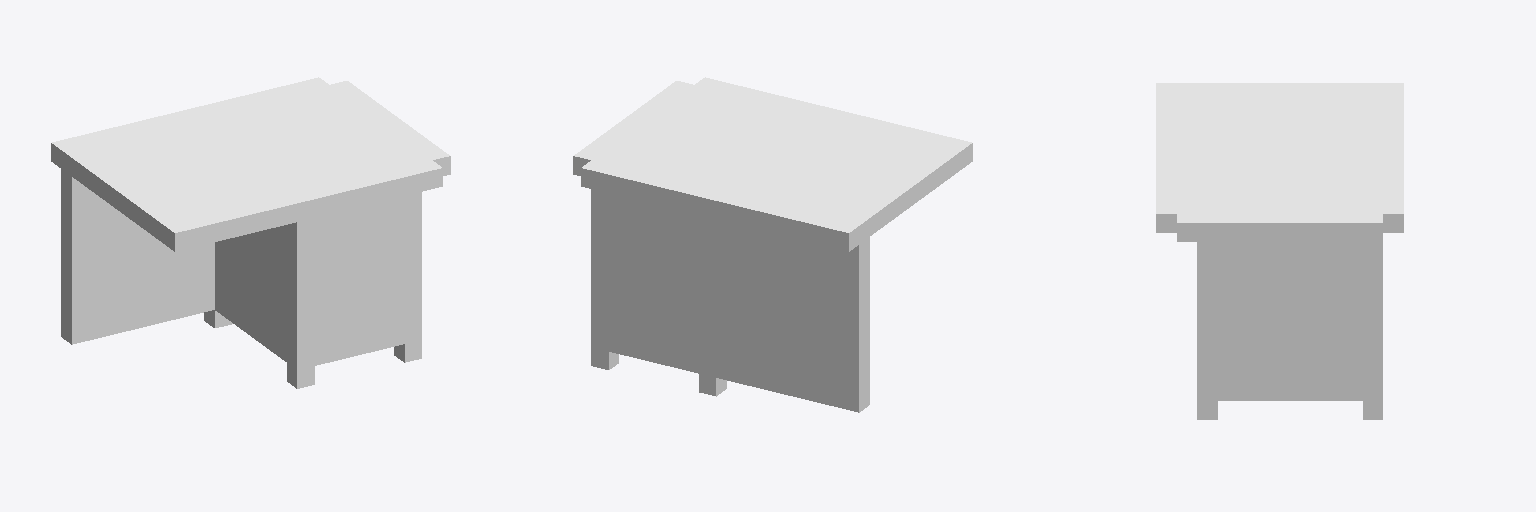
File: Office_Table_Set-2.obj
3 renders of one model, left to right at view 1: azimuth 30°, elevation 25°; view 2: azimuth 150°, elevation 25°; view 3: azimuth 270°, elevation 25°, orthographic.
Parts seen in each view (by area): view 1: object 1; view 2: object 1; view 3: object 1.
Boxes of the visible parts, x1,y1,x2,y2 form: object 1: [51, 77, 450, 388]; object 1: [573, 77, 972, 412]; object 1: [1156, 83, 1403, 419].
Bounding box in the file's own units: 1.6 × 1.1 × 1.2.